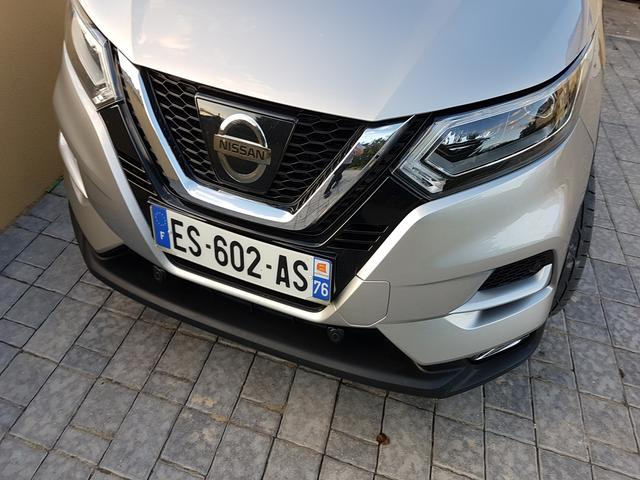Quashquai: (138, 185, 357, 340)
